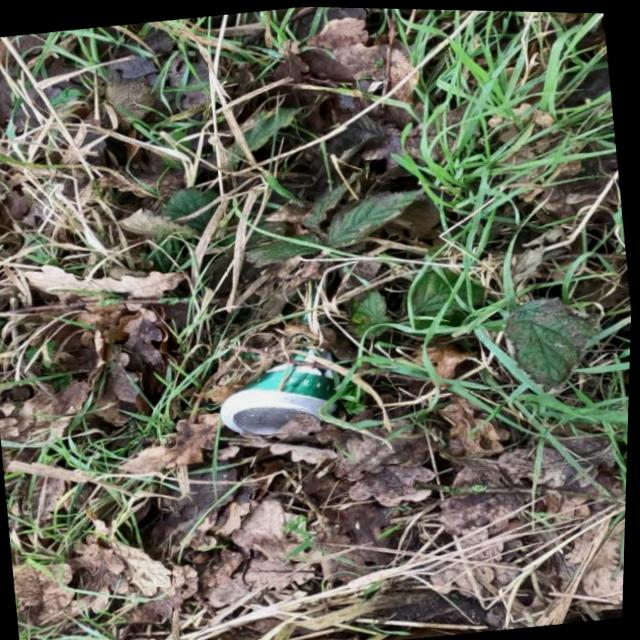Can-Metal: (204, 273, 348, 442)
